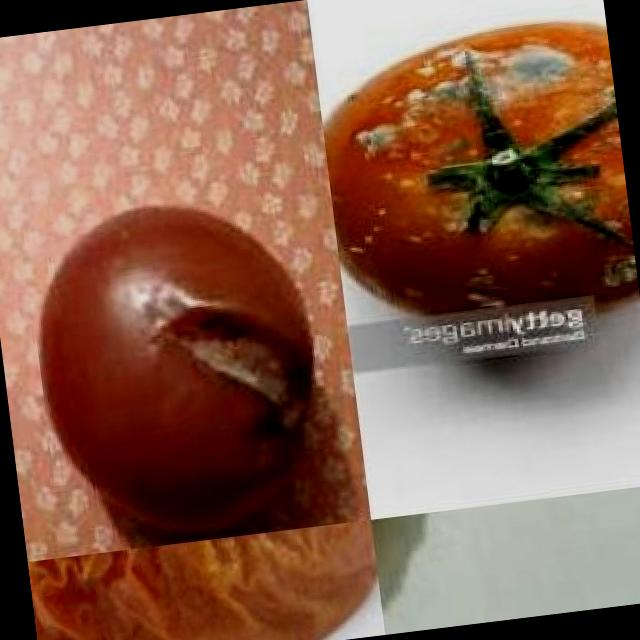Rotten_Tomato: (7, 177, 341, 558), (312, 5, 640, 374), (27, 519, 385, 640)
